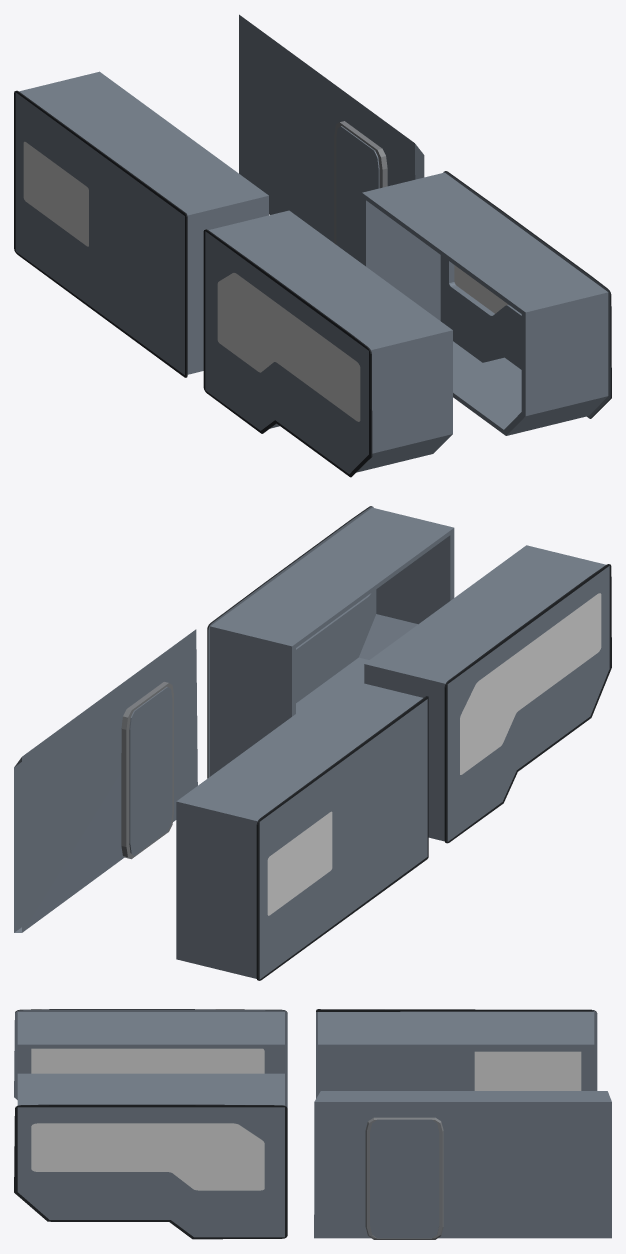
Rendered from BodyFix2.fbx.
3 views of the same model, one above another, from view 1: azimuth 30°, elevation 25°; view 2: azimuth 150°, elevation 25°; view 3: azimuth 270°, elevation 25° (orthographic). The views are drawn at different scales.
Visible parts, largest first — view 1: Cube.095, Cube, Cube.088, LivingCabin.003, Cube.093, Cube.094, Door, Door.001, Cube.087; view 2: Cube.095, Cube, Cube.088, LivingCabin.003, Cube.093, Door, Cube.094, Door.001; view 3: LivingCabin.003, Cube, Cube.095, Cube.087, Cube.088, Door, Cube.093, Cube.094, Door.001.
Part boxes in pixels (x1=…): Cube.095: x1=14, y1=71, x2=268, y2=377; Cube: x1=362, y1=171, x2=611, y2=435; Cube.088: x1=203, y1=210, x2=452, y2=477; LivingCabin.003: x1=239, y1=14, x2=424, y2=242; Cube.093: x1=217, y1=273, x2=360, y2=421; Cube.094: x1=23, y1=141, x2=88, y2=246; Door: x1=336, y1=126, x2=379, y2=263; Door.001: x1=334, y1=121, x2=387, y2=244; Cube.087: x1=454, y1=265, x2=508, y2=313; Cube.095: x1=176, y1=678, x2=428, y2=980; Cube: x1=207, y1=506, x2=454, y2=778; Cube.088: x1=364, y1=545, x2=611, y2=843; LivingCabin.003: x1=14, y1=629, x2=197, y2=932; Cube.093: x1=460, y1=593, x2=601, y2=774; Door: x1=129, y1=687, x2=172, y2=855; Cube.094: x1=267, y1=811, x2=332, y2=915; Door.001: x1=121, y1=682, x2=173, y2=859; LivingCabin.003: x1=314, y1=1091, x2=611, y2=1238; Cube: x1=14, y1=1073, x2=287, y2=1239; Cube.095: x1=316, y1=1009, x2=597, y2=1098; Cube.087: x1=31, y1=1123, x2=264, y2=1190; Cube.088: x1=14, y1=1009, x2=287, y2=1107; Door: x1=370, y1=1119, x2=439, y2=1238; Cube.093: x1=31, y1=1048, x2=264, y2=1073; Cube.094: x1=474, y1=1051, x2=581, y2=1090; Door.001: x1=365, y1=1117, x2=443, y2=1239.
Bounding box in the file's own units: 426 × 304 × 1122.
